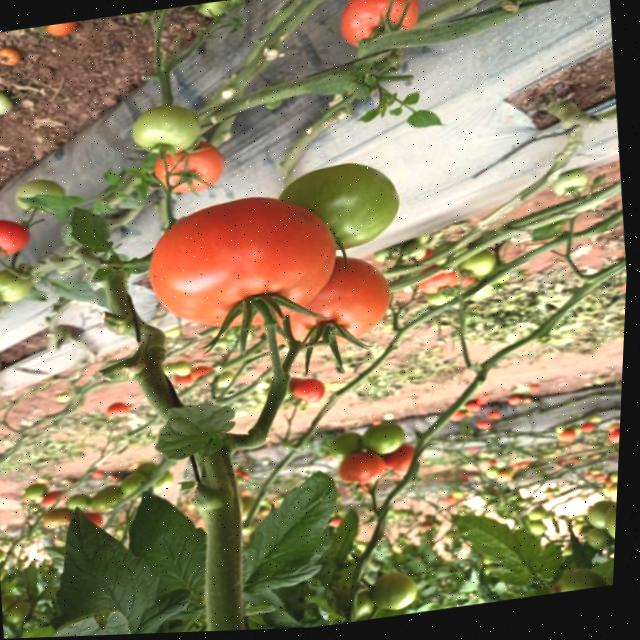Ripe Tomato: (142, 193, 353, 350), (277, 257, 399, 356), (333, 0, 420, 63), (152, 147, 229, 206), (332, 450, 395, 492), (416, 270, 480, 307), (289, 376, 333, 412), (0, 217, 31, 261), (389, 447, 424, 483), (103, 397, 138, 425), (0, 41, 26, 72), (175, 372, 203, 395), (41, 22, 76, 39), (85, 513, 114, 533), (447, 411, 473, 431), (557, 429, 584, 448), (191, 367, 218, 386), (605, 432, 624, 455), (476, 421, 498, 439), (514, 399, 532, 414), (504, 470, 522, 484), (473, 402, 487, 417)
Unripe Tomato: (281, 160, 406, 262), (127, 100, 204, 163), (373, 567, 430, 615), (12, 172, 66, 216), (327, 585, 379, 626), (453, 244, 505, 284), (183, 0, 243, 32), (548, 166, 597, 205), (324, 426, 371, 464), (367, 421, 413, 459), (582, 506, 622, 540), (568, 565, 610, 596), (92, 484, 129, 516), (145, 459, 176, 496), (605, 489, 622, 556), (13, 597, 45, 631), (0, 273, 28, 310), (24, 478, 57, 509), (397, 244, 436, 270), (468, 281, 503, 309), (428, 290, 462, 314), (243, 491, 271, 518), (123, 475, 152, 500), (45, 510, 79, 531), (0, 83, 17, 120), (530, 521, 555, 541), (538, 505, 556, 521), (489, 470, 506, 480)
